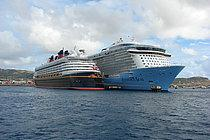Ship: (84, 35, 191, 99), (27, 43, 111, 95)
